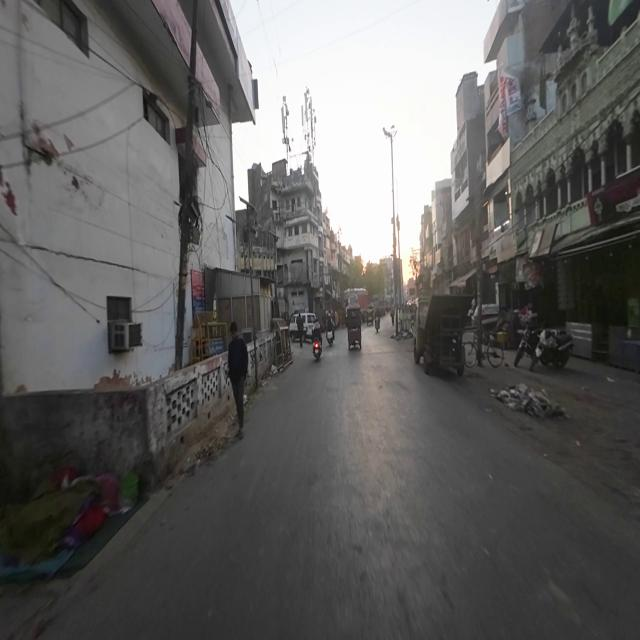Garbage: (493, 379, 565, 423)
